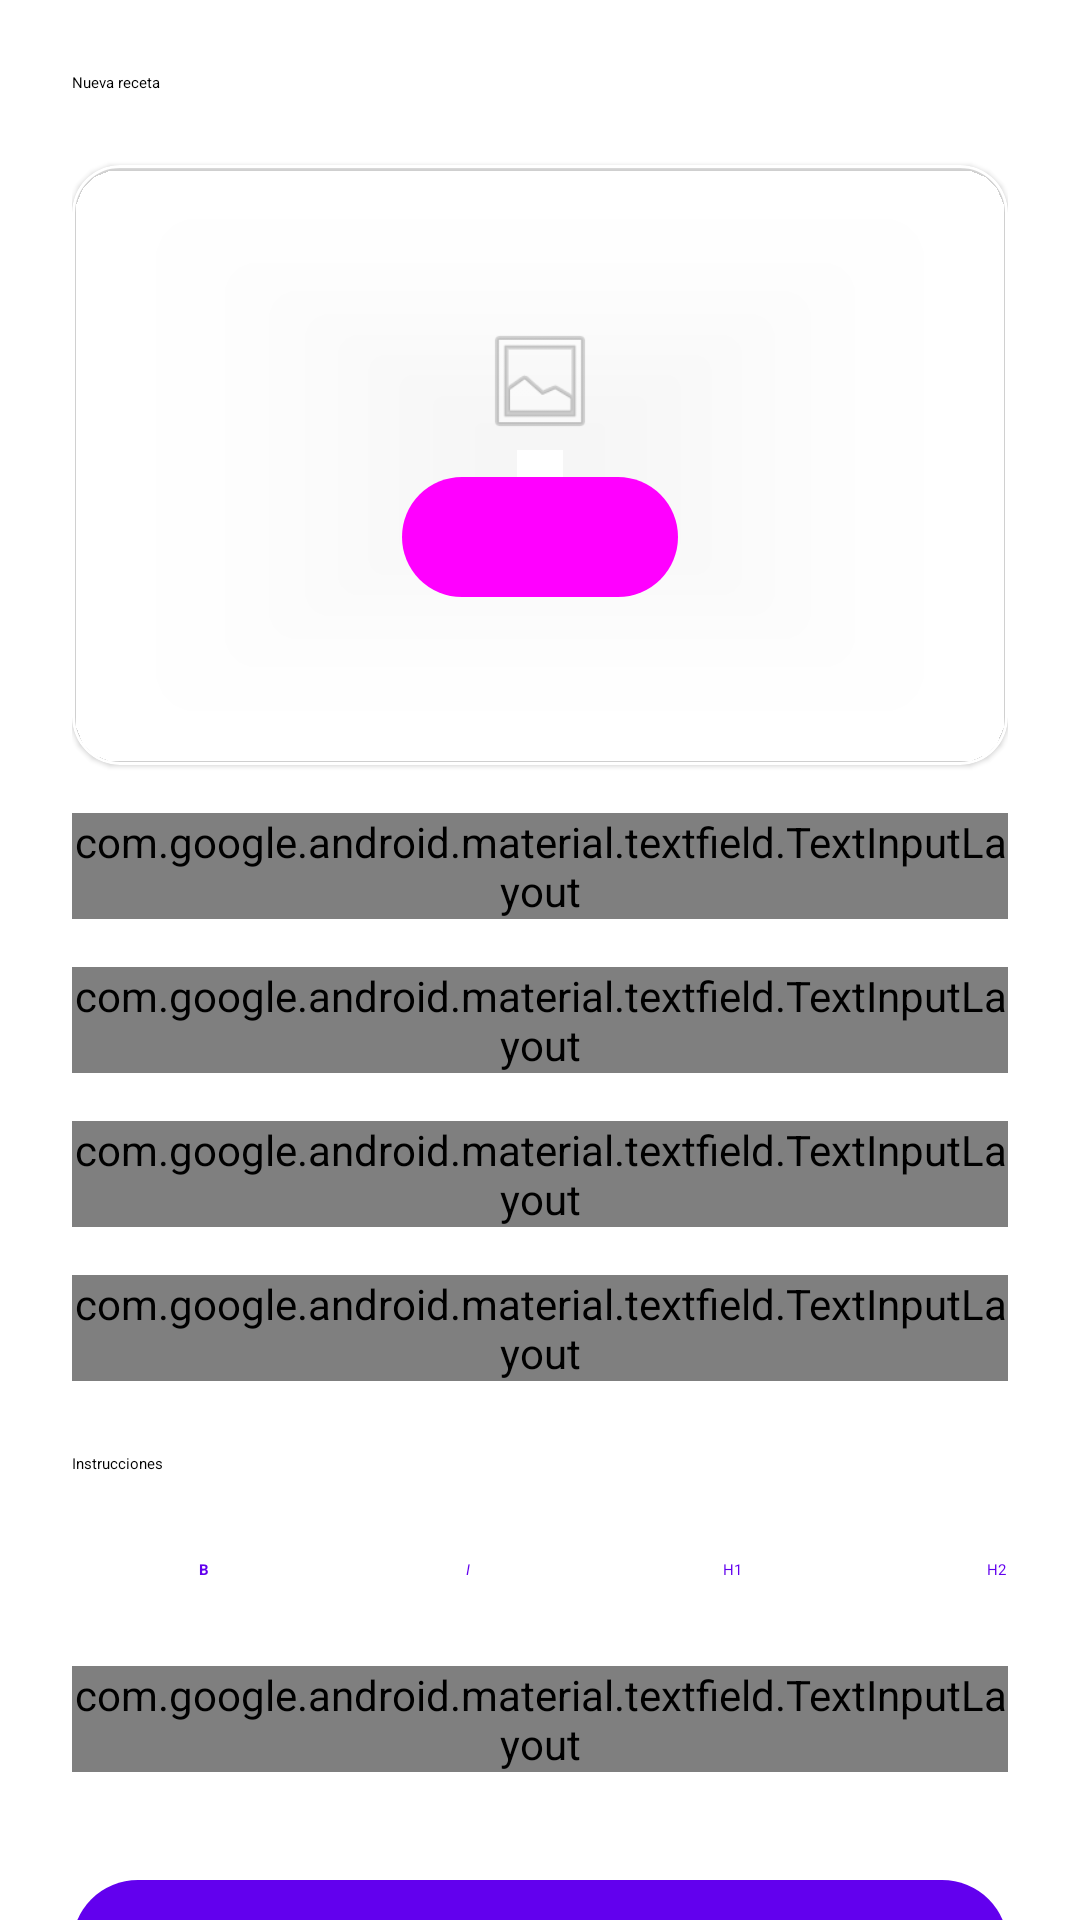

Icons on this 1080x1920 Android screen, each with its box as (x1, y1, x2, y2):
gallery: (495, 336, 585, 426)
